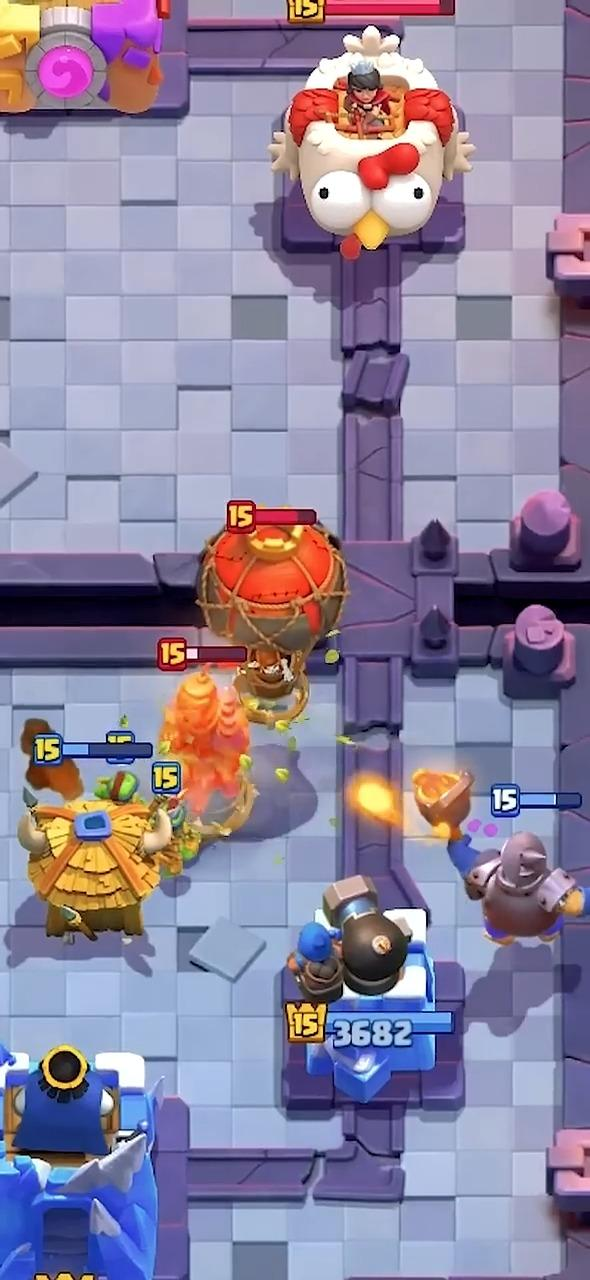baloon: (197, 523, 347, 697)
furnace: (412, 771, 589, 945)
goblin hut: (17, 798, 171, 935)
prince: (161, 666, 249, 815)
spear goblin: (161, 802, 200, 875), (95, 769, 139, 803)
vines: (193, 774, 258, 844), (238, 675, 308, 731)
